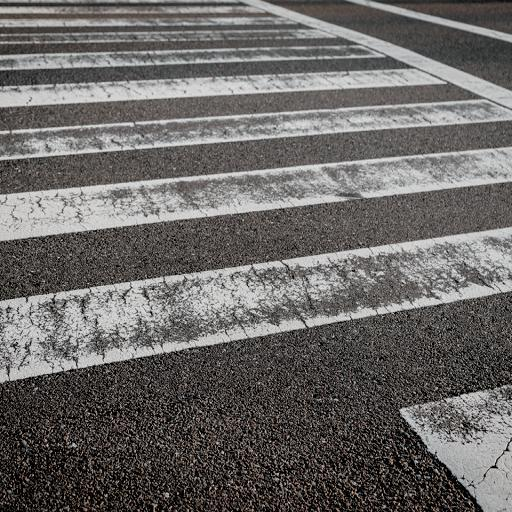crosswalk: (0, 49, 512, 168)
